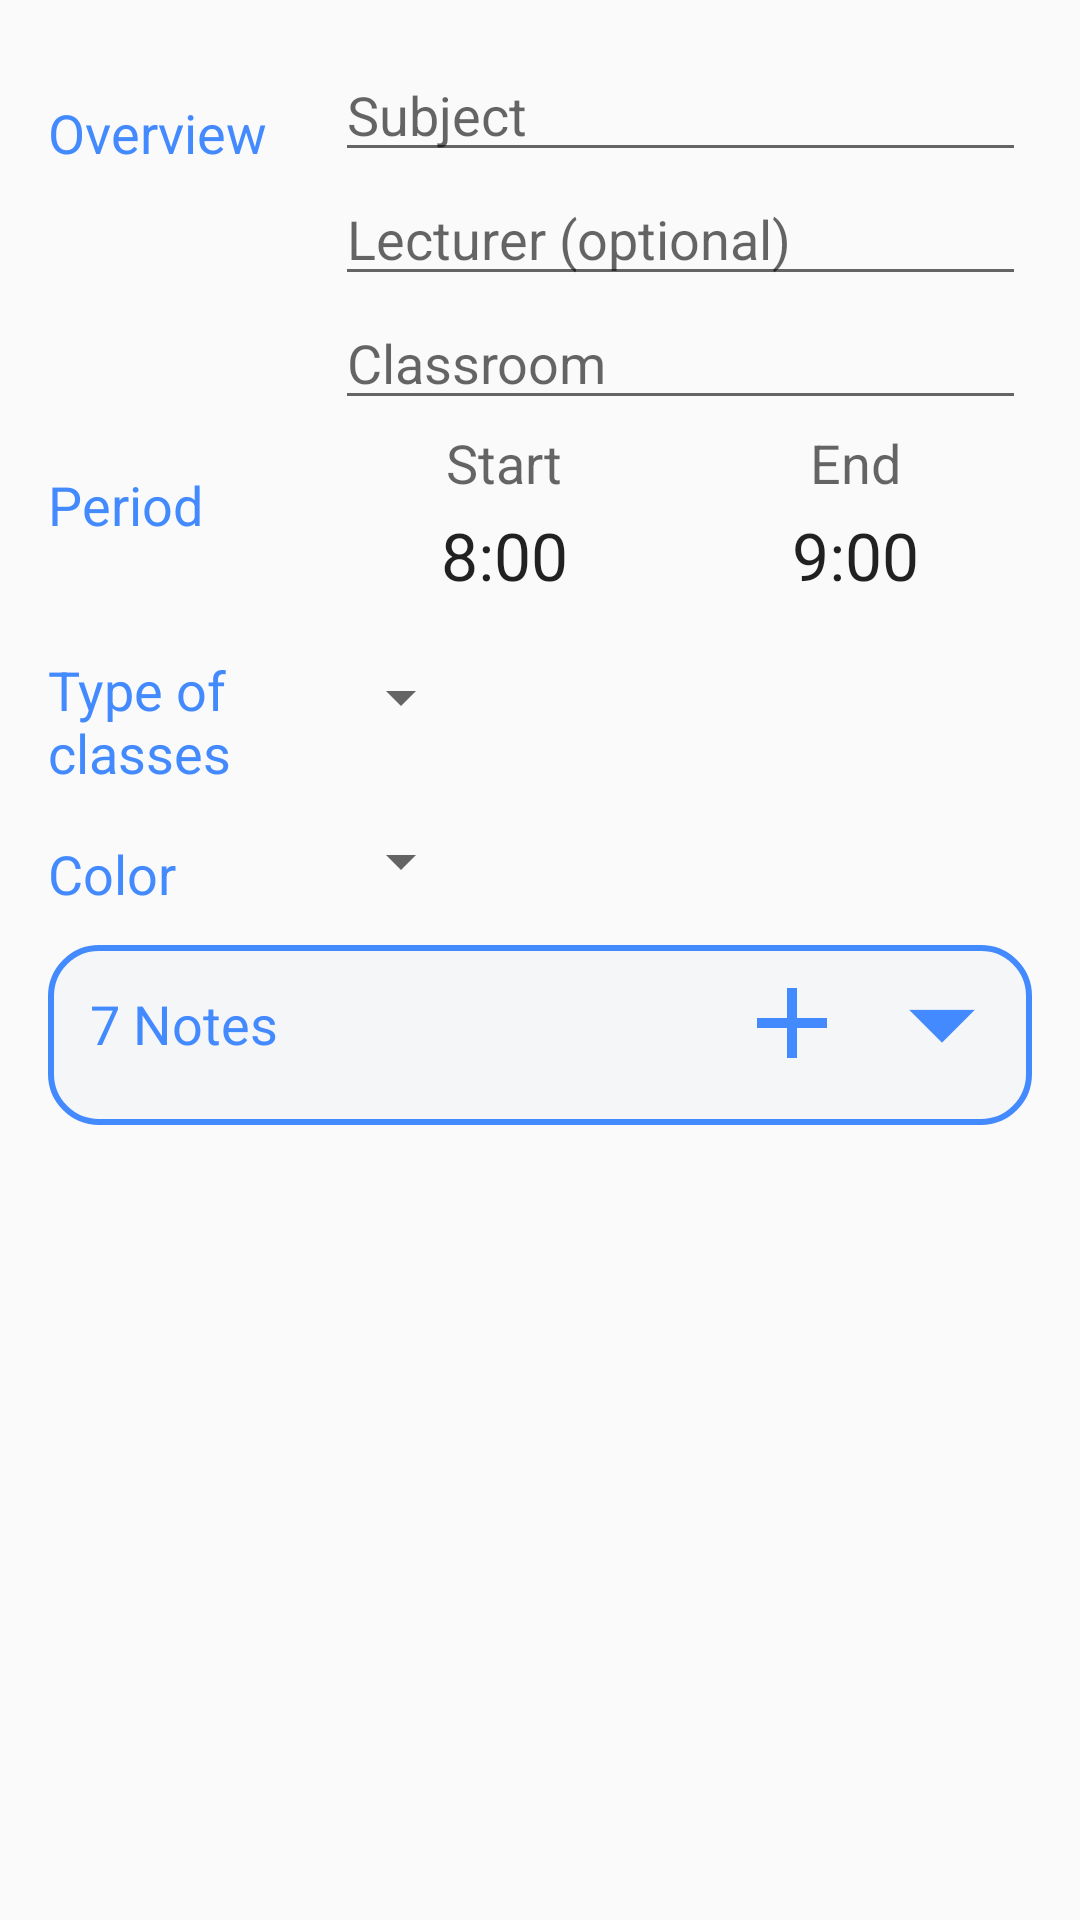

Where to tap for icons on this 1080px x 1920px app screen, as point (x, y):
add note: point (792, 1023)
list down arrow: point (942, 1026)
